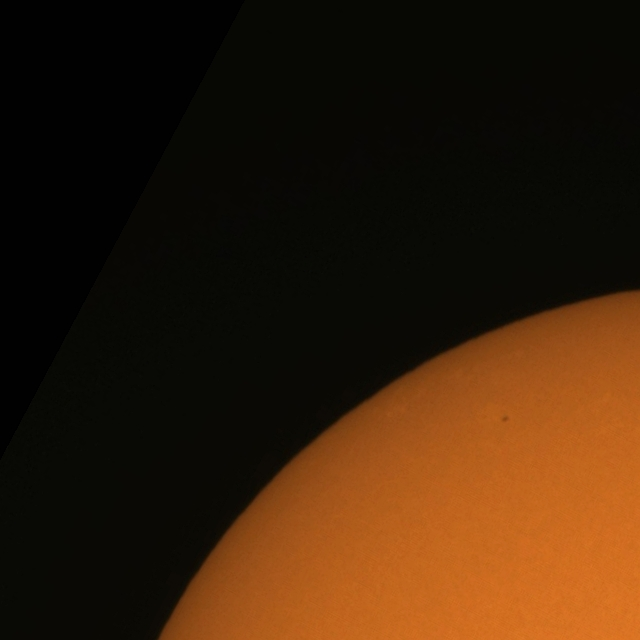sunspot: (500, 414, 510, 424)
